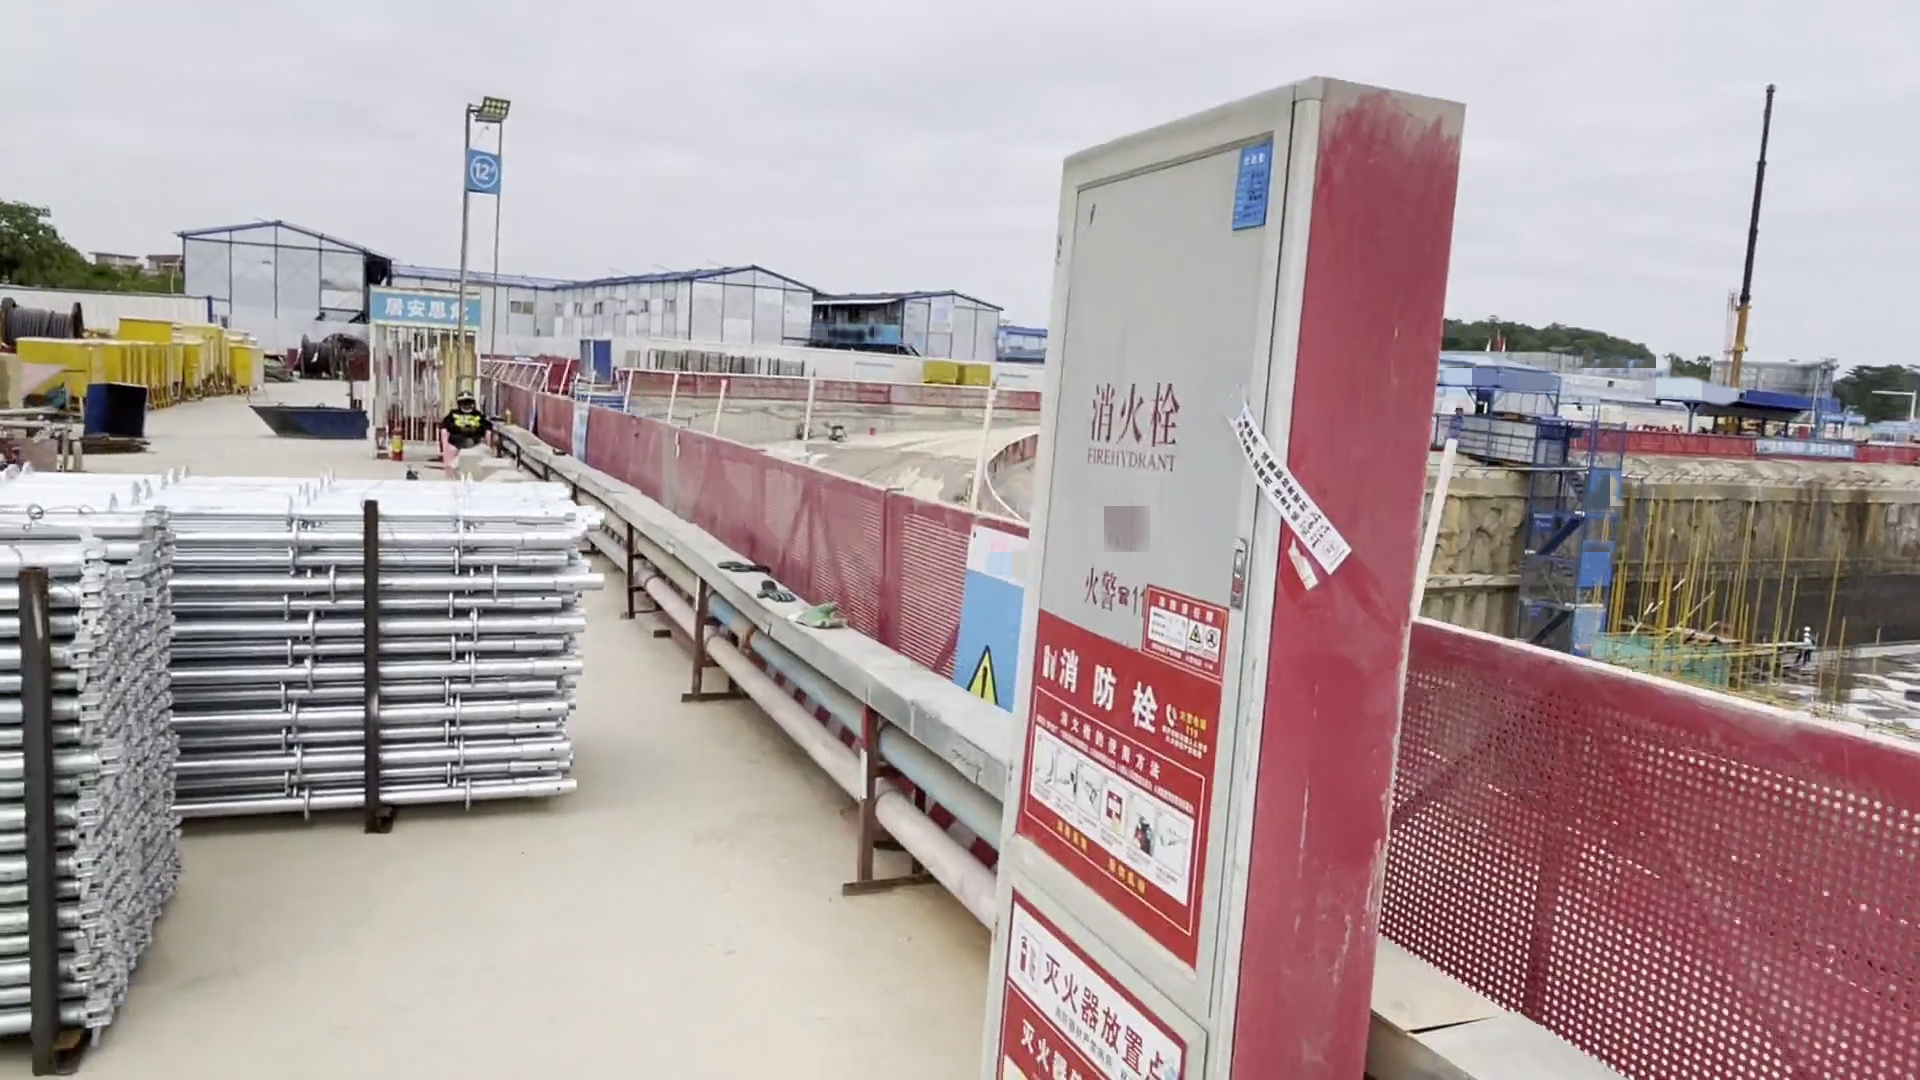ebox: (16, 331, 94, 400), (233, 342, 266, 405), (117, 313, 170, 342)
scaffold: (179, 465, 604, 827), (1, 476, 190, 1039)
slogan: (1018, 637, 1215, 895)
